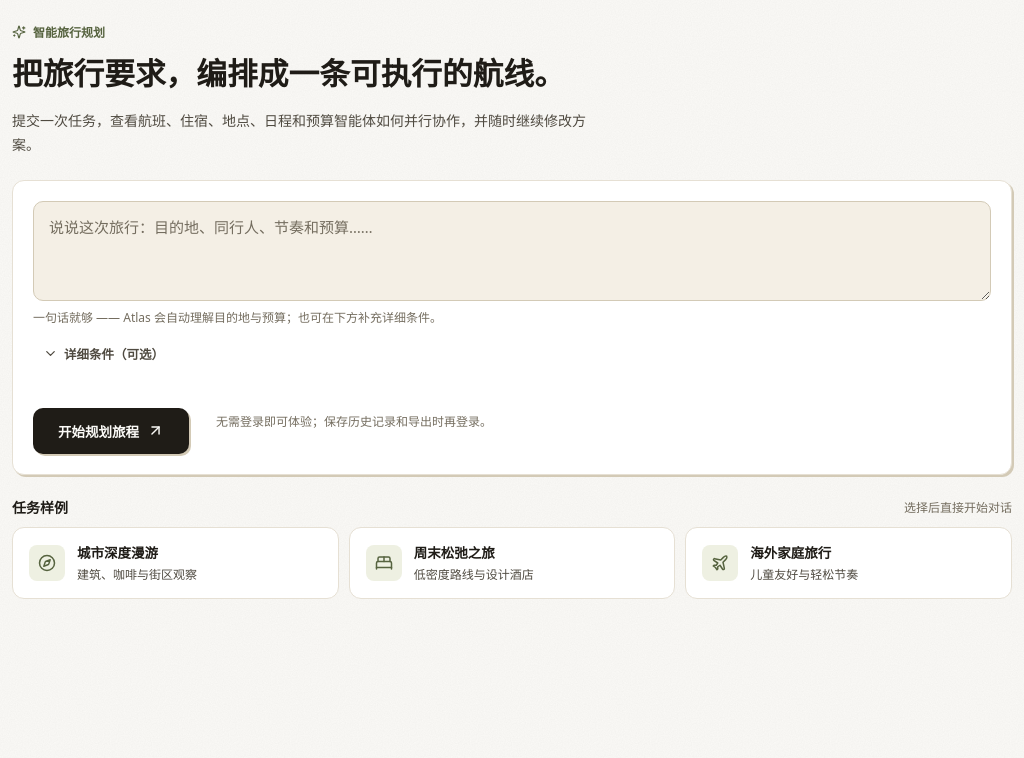
Atlas journey interface › keeps detailed form fields collapsed until asked for
Check: the field labelled "出发地" is not shown
What coordinates should you click on to do the following:
click the button "详细条件（可选）"
I would click on:
 (104, 354)
Its box is [33, 336, 174, 372].
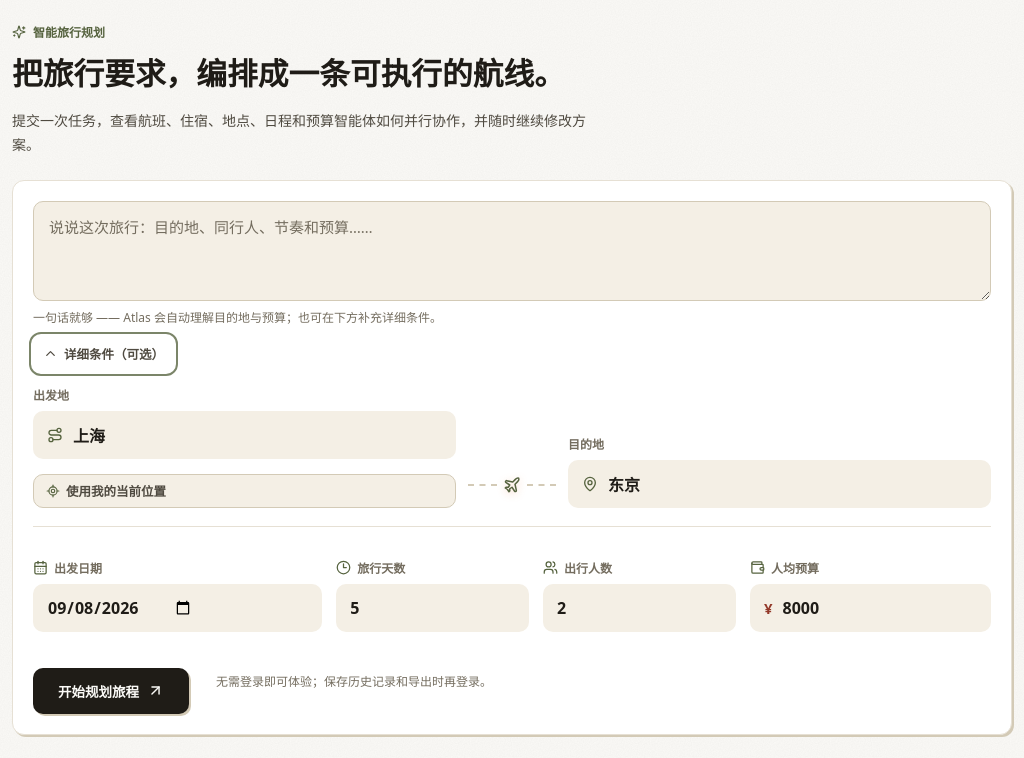
Check: the field labelled "出发地" is shown, box [73, 414, 442, 456]
